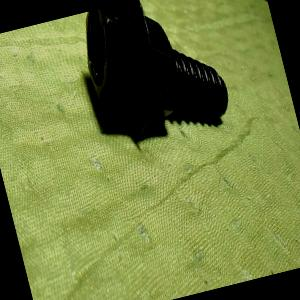parafuso: (73, 0, 237, 154)
